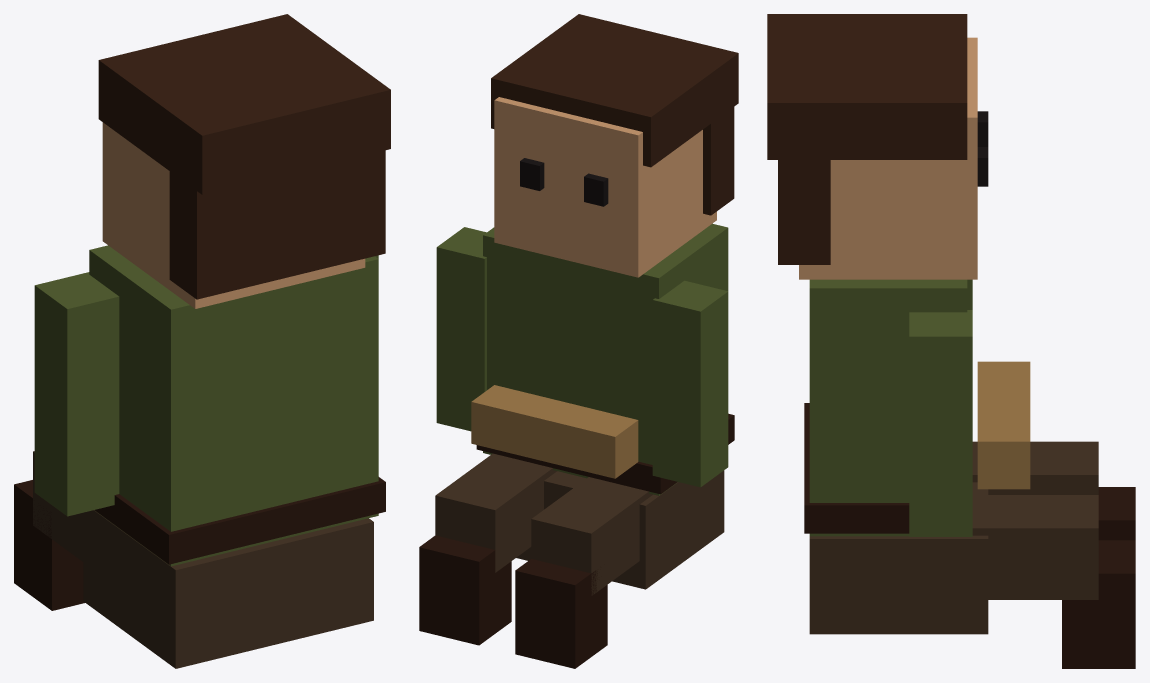
File: hostage_prisoner.glb
The picture shows the model from 3 angles, left to right: view 1: azimuth 30°, elevation 25°; view 2: azimuth 150°, elevation 25°; view 3: azimuth 270°, elevation 25°; orthographic projection. The views are drawn at different scales.
Parts seen in each view (by area): view 1: hostage_prisoner; view 2: hostage_prisoner; view 3: hostage_prisoner.
Part boxes in pixels (<box>): hostage_prisoner: <box>14,14,390,668</box>; hostage_prisoner: <box>419,14,738,668</box>; hostage_prisoner: <box>767,14,1135,668</box>.
Bounding box in the file's own units: 0.66 × 1.19 × 0.7.
